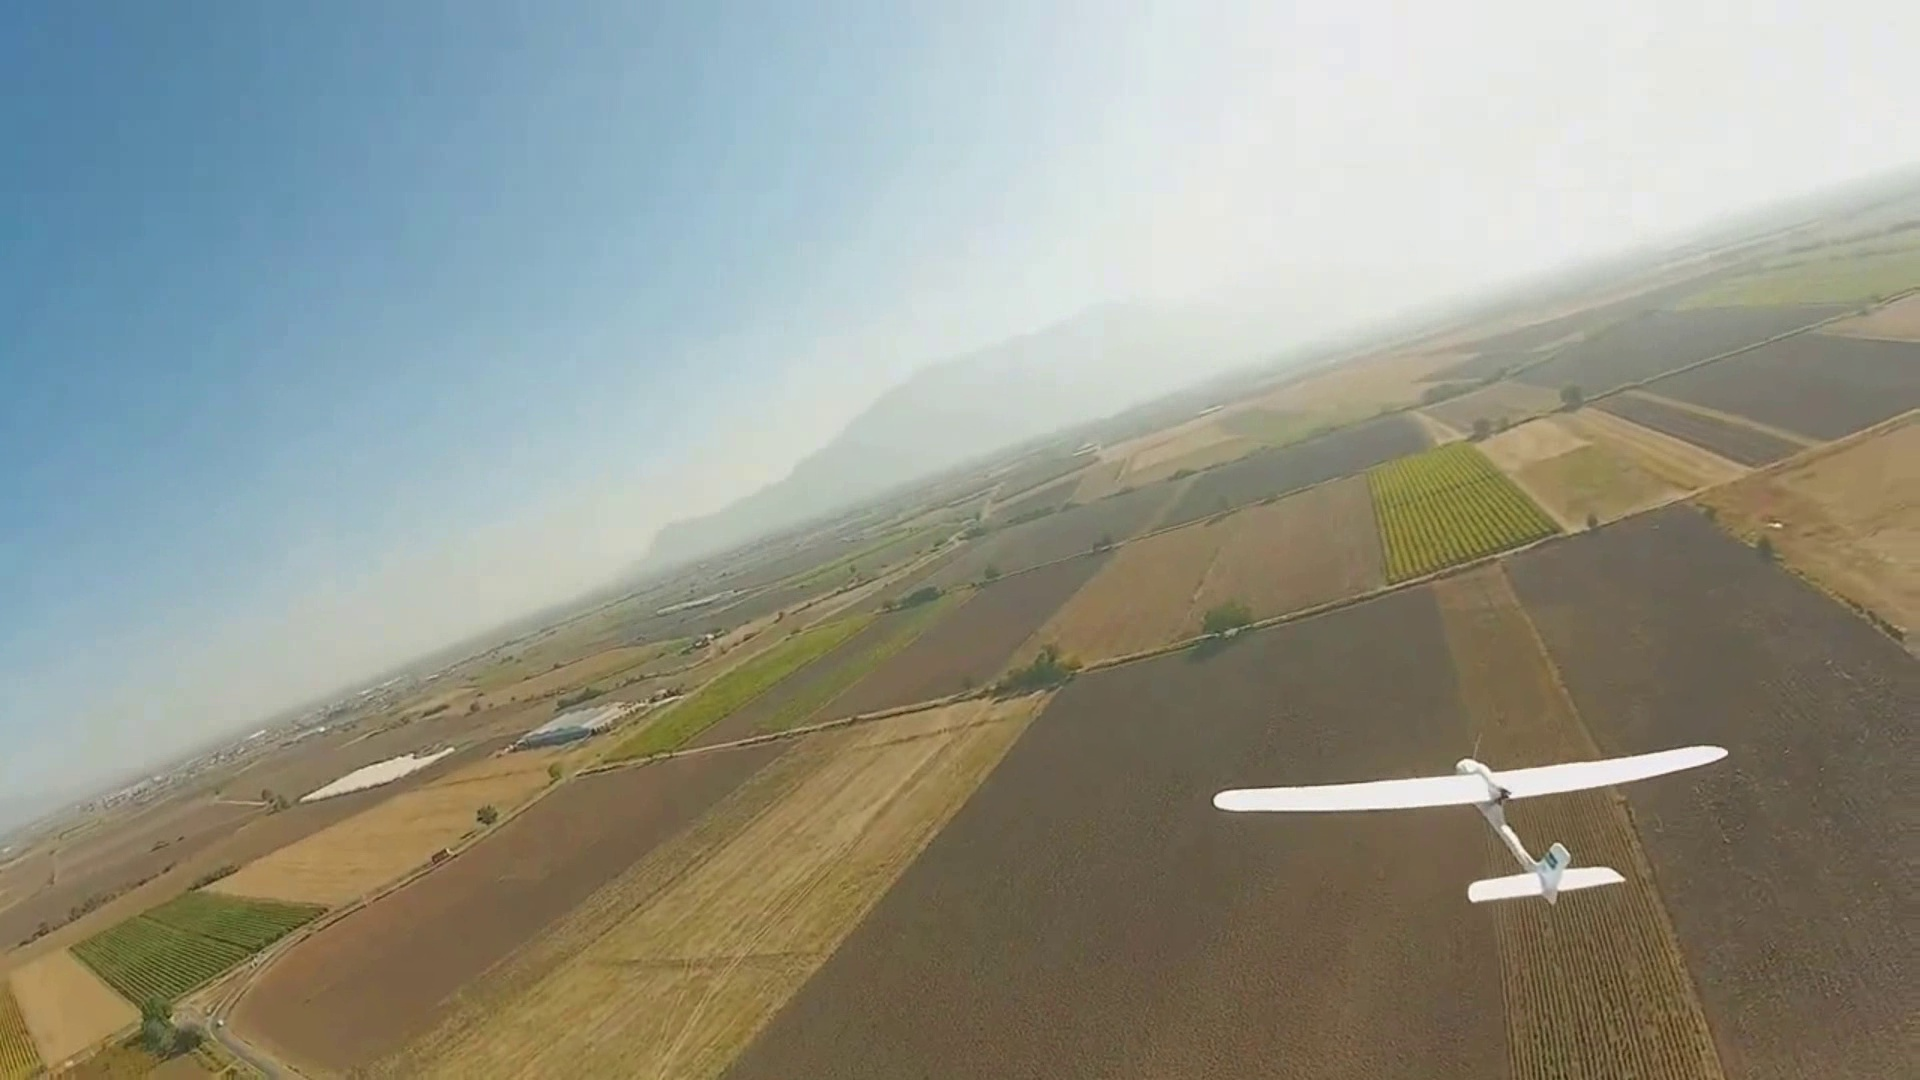airplane: (46, 145, 1920, 1068), (1212, 752, 1727, 901)
